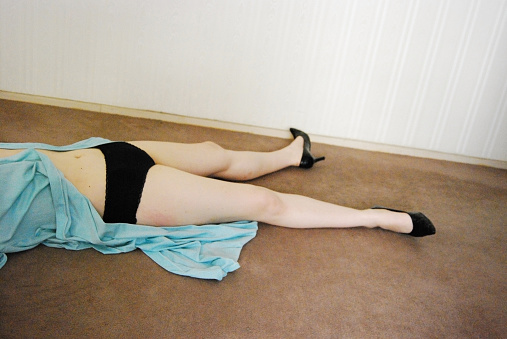deitado: (0, 104, 446, 320)
